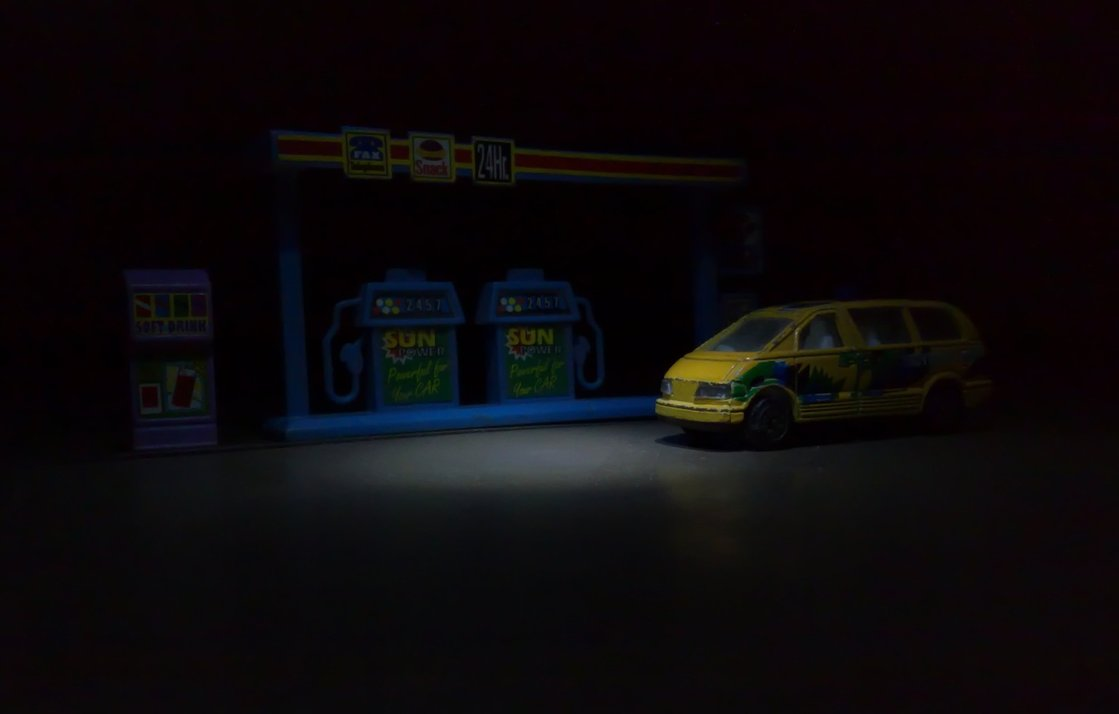car: (646, 279, 1001, 452)
